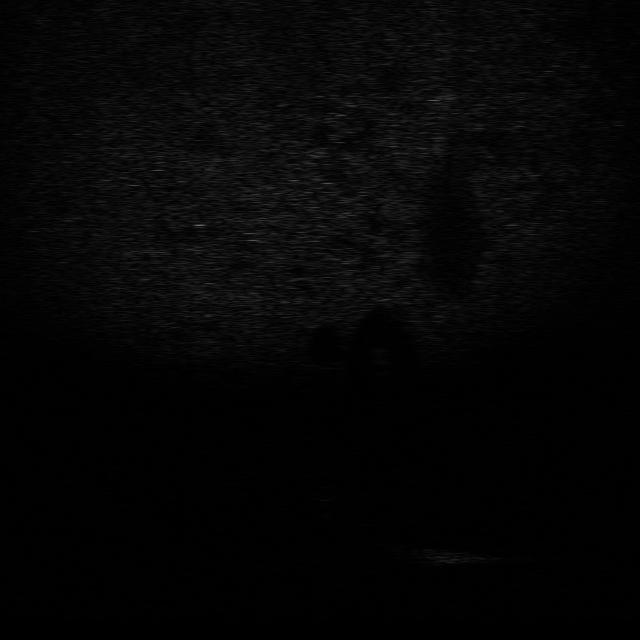ball: (305, 482, 343, 504)
metal bucket: (404, 543, 485, 569)
tyre: (354, 513, 414, 561)
